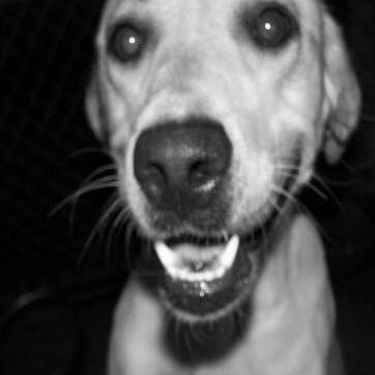dog: (82, 2, 361, 373)
